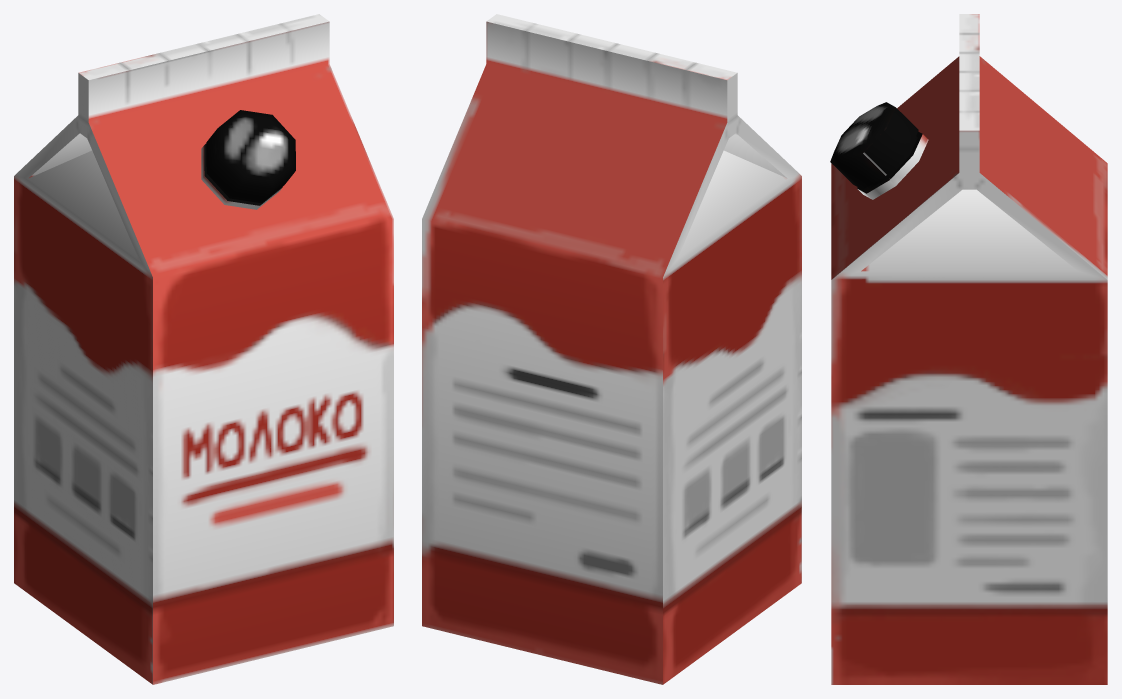
File: milk.fbx
3 renders of one model, left to right at view 1: azimuth 30°, elevation 25°; view 2: azimuth 150°, elevation 25°; view 3: azimuth 270°, elevation 25°, orthographic.
Visible parts, largest first — view 1: milk; view 2: milk; view 3: milk.
Part boxes in pixels (<box>): milk: <box>14,14,393,684</box>; milk: <box>422,14,801,684</box>; milk: <box>830,14,1107,684</box>.
Size of the model in its own units: 3.21 by 3.23 by 7.11.
Materials: 1 (1 with a texture image).
